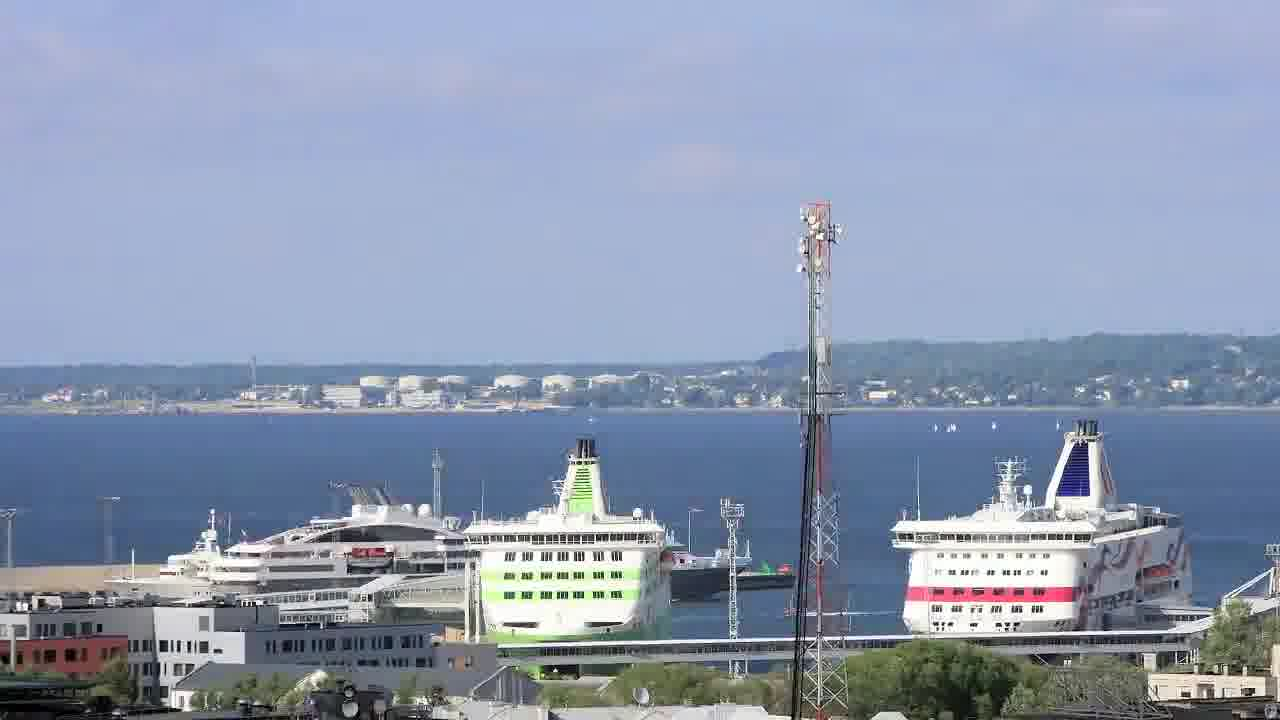type-3: (868, 415, 1225, 638), (436, 434, 694, 670), (209, 479, 497, 608), (103, 520, 237, 607)
